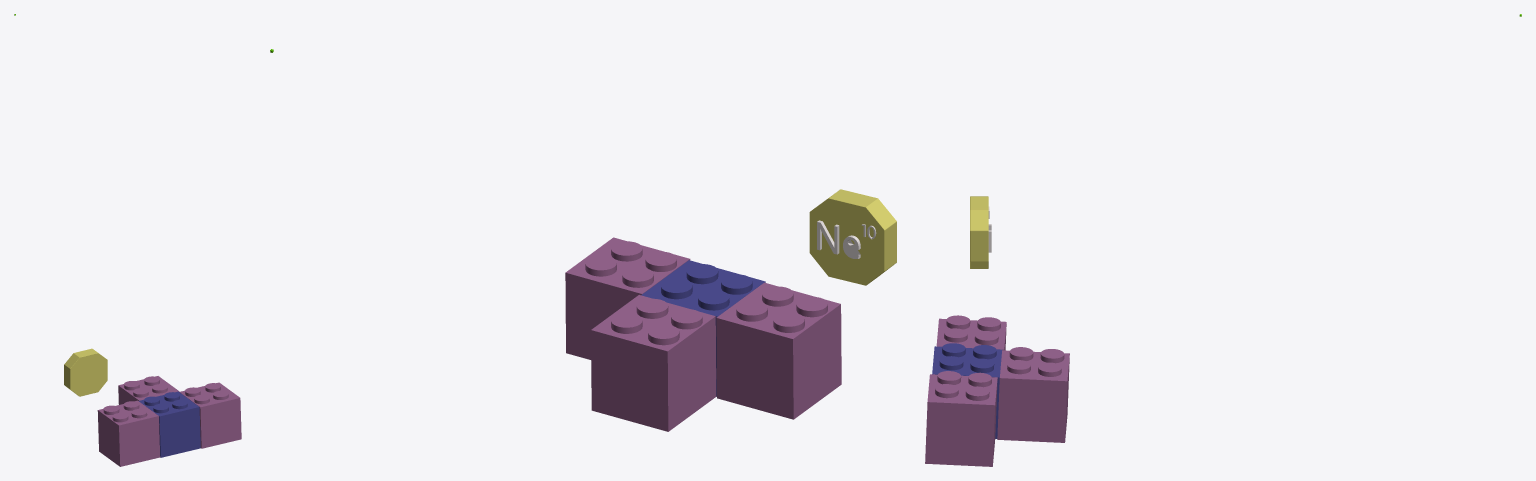
File: Neon Object.fbx
The picture shows the model from 3 angles, left to right: view 1: azimuth 30°, elevation 25°; view 2: azimuth 150°, elevation 25°; view 3: azimuth 270°, elevation 25°; orthographic projection. The views are drawn at different scales.
Parts seen in each view (by area): view 1: typeMesh2; view 2: typeMesh2; view 3: typeMesh2.
Boxes of the visible parts, x1=… form: typeMesh2: x1=64, y1=348, x2=241, y2=466; typeMesh2: x1=565, y1=189, x2=896, y2=431; typeMesh2: x1=925, y1=196, x2=1069, y2=466.
Bounding box in the file's own units: 4.21 × 7.39 × 9.19.
